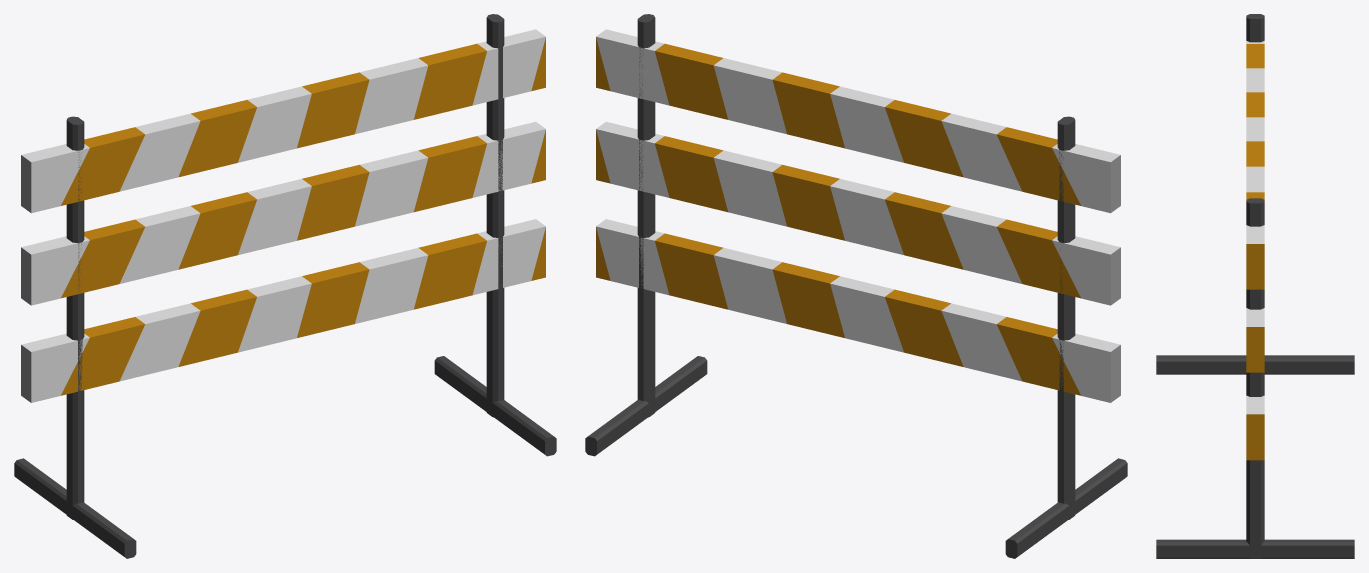
The model's file is RoadworkBarrier2.fbx.
3 views of the same model, side by side, from view 1: azimuth 30°, elevation 25°; view 2: azimuth 150°, elevation 25°; view 3: azimuth 270°, elevation 25° (orthographic). The views are drawn at different scales.
Parts seen in each view (by area): view 1: polySurface6; view 2: polySurface6; view 3: polySurface6.
Part boxes in pixels (x1=…): polySurface6: x1=14, y1=14, x2=556, y2=558; polySurface6: x1=585, y1=14, x2=1127, y2=558; polySurface6: x1=1156, y1=14, x2=1354, y2=558.
Bounding box in the file's own units: 35 × 25.79 × 12.98.
